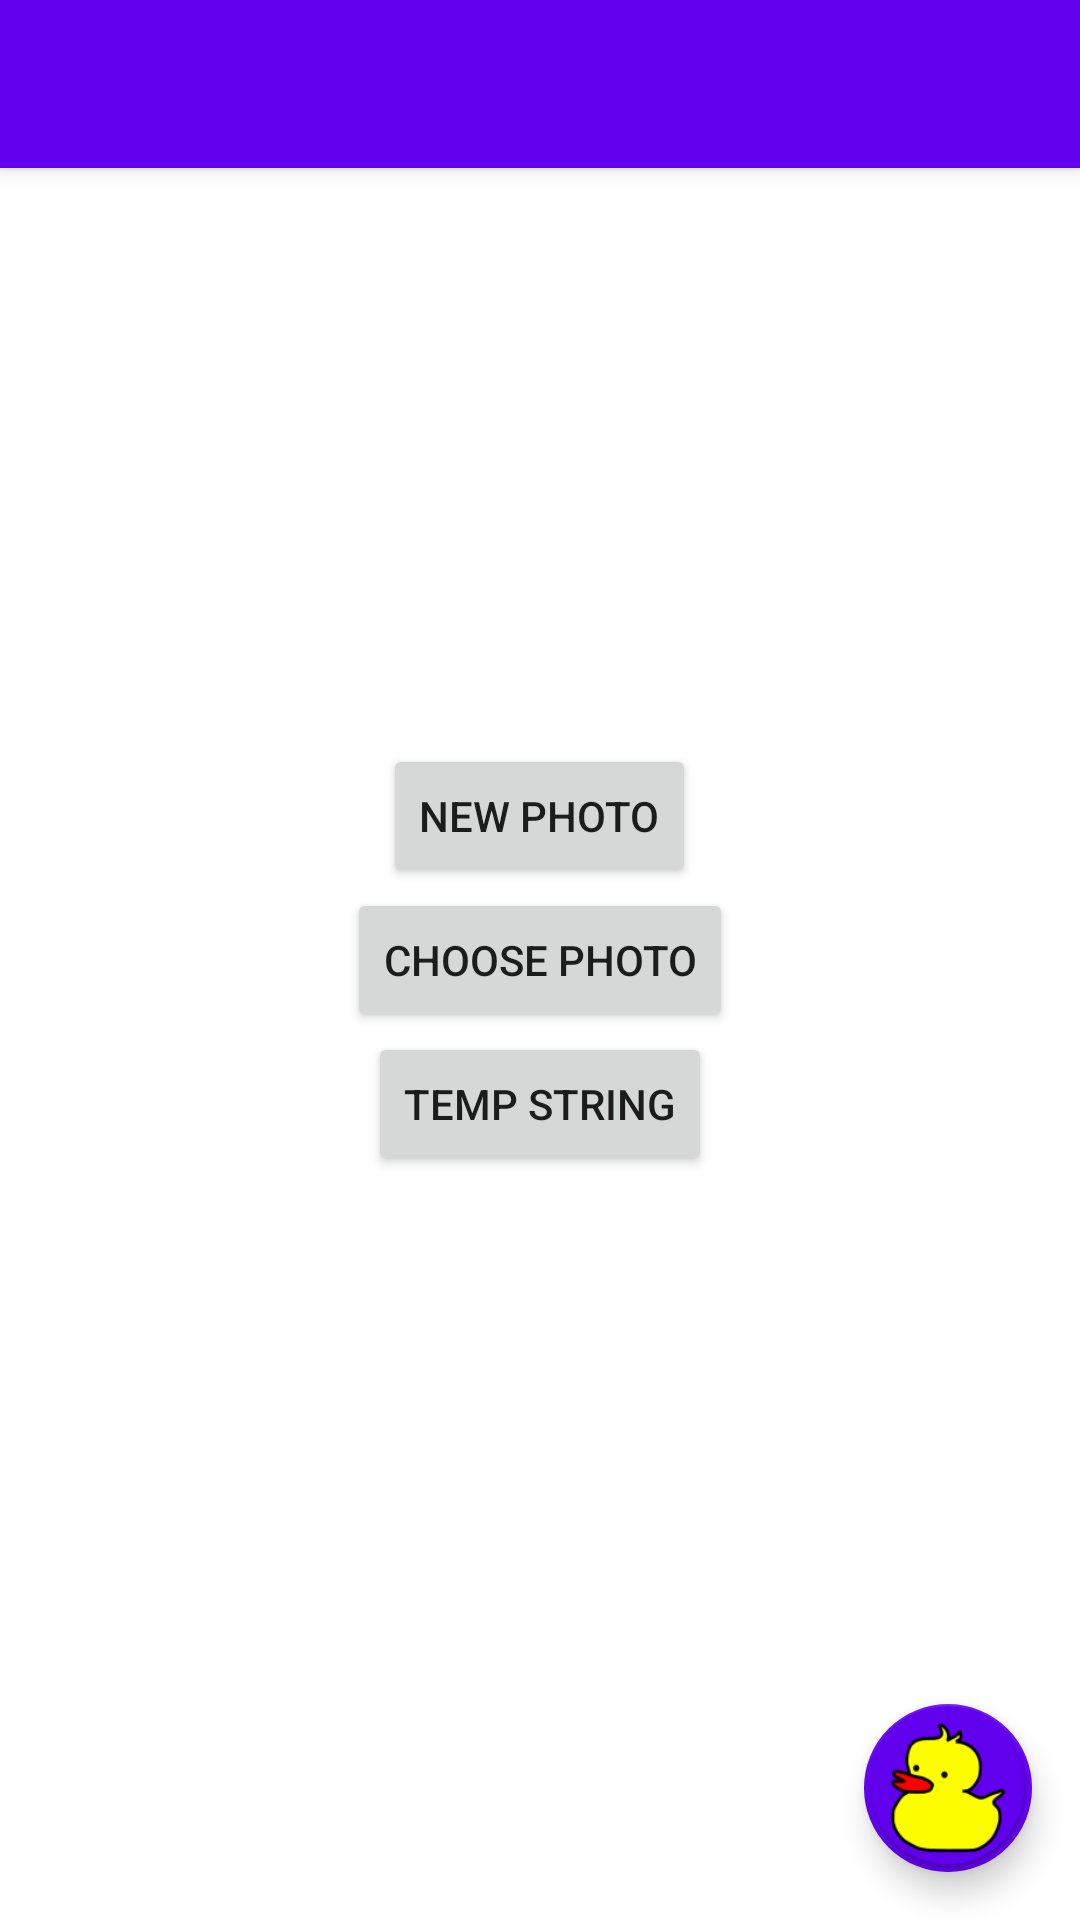

Named icons in this screenshot (1080x1920) and their bounding boxes, (x1, y1, x2, y2):
duck fab: (864, 1704, 1032, 1872)
